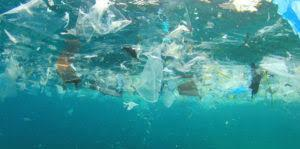Plastic bag: (0, 0, 300, 111)
